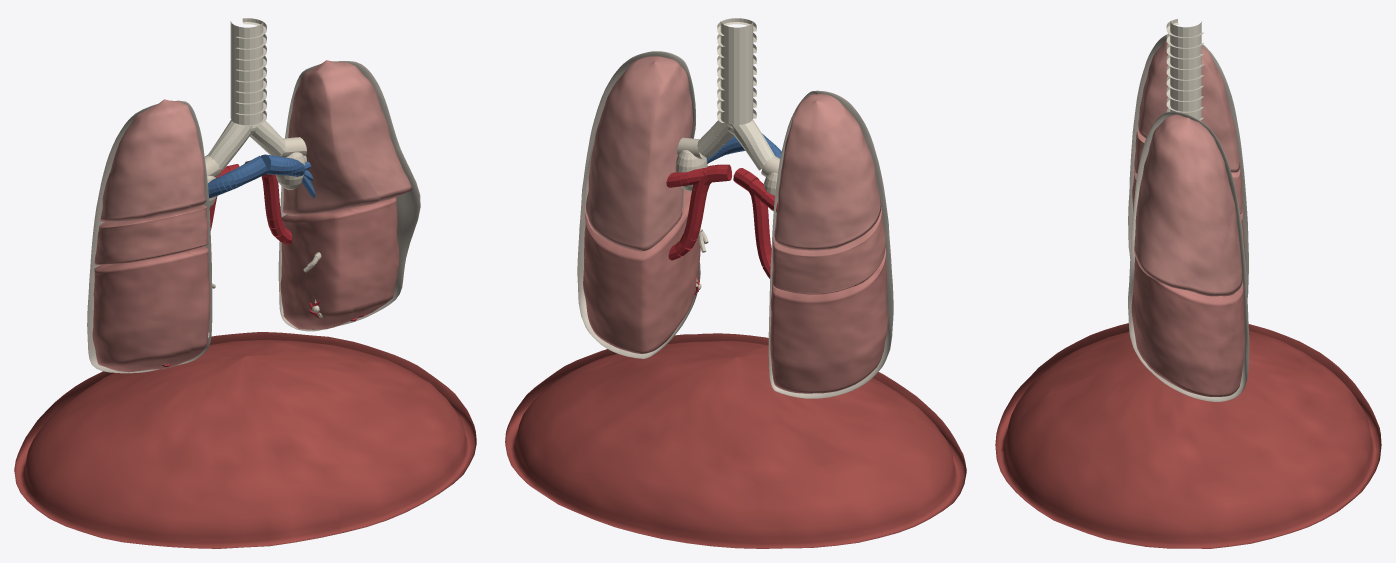
Rendered from lung.glb.
3 renders of one model, left to right at view 1: azimuth 30°, elevation 25°; view 2: azimuth 150°, elevation 25°; view 3: azimuth 270°, elevation 25°, orthographic. The views are drawn at different scales.
Parts seen in each view (by area): view 1: diaphragm, upper_lobe_left, lower_lobe_left, lower_lobe_right, upper_lobe_right, pleura, middle_lobe_right, trachea, pulmonary_arteries, carina, pulmonary_veins, hilum; view 2: diaphragm, upper_lobe_left, upper_lobe_right, lower_lobe_right, lower_lobe_left, pleura, middle_lobe_right, pulmonary_veins, trachea, carina, hilum; view 3: diaphragm, upper_lobe_left, lower_lobe_left, pleura, upper_lobe_right, trachea, middle_lobe_right.
Boxes of the visible parts, x1,y1,x2,y2 form: diaphragm: (14, 332, 476, 548); upper_lobe_left: (282, 60, 412, 215); lower_lobe_left: (280, 197, 399, 329); lower_lobe_right: (92, 246, 210, 372); upper_lobe_right: (99, 99, 206, 222); pleura: (87, 61, 420, 373); middle_lobe_right: (94, 205, 208, 265); trachea: (230, 18, 266, 126); pulmonary_arteries: (208, 154, 315, 198); carina: (208, 120, 285, 170); pulmonary_veins: (209, 160, 292, 244); hilum: (207, 152, 305, 208); diaphragm: (505, 333, 966, 548); upper_lobe_left: (585, 56, 692, 251); upper_lobe_right: (774, 94, 881, 250); lower_lobe_right: (770, 248, 887, 393); lower_lobe_left: (583, 189, 700, 353); pleura: (577, 51, 893, 398); middle_lobe_right: (772, 207, 885, 294); pulmonary_veins: (666, 164, 778, 278); trachea: (717, 18, 756, 124); carina: (697, 119, 774, 170); hilum: (675, 150, 777, 211); diaphragm: (995, 323, 1381, 548); upper_lobe_left: (1134, 114, 1242, 296); lower_lobe_left: (1131, 256, 1244, 396); pleura: (1128, 34, 1249, 401); upper_lobe_right: (1137, 40, 1239, 172); trachea: (1166, 19, 1203, 120); middle_lobe_right: (1134, 127, 1242, 214).
Size of the model in its own units: 3.4 by 3.45 by 2.8.
